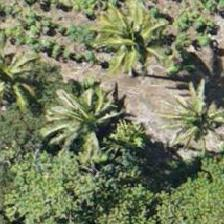coconut_tree: (50, 69, 140, 159), (85, 0, 175, 84), (153, 87, 223, 177), (0, 35, 46, 125)
